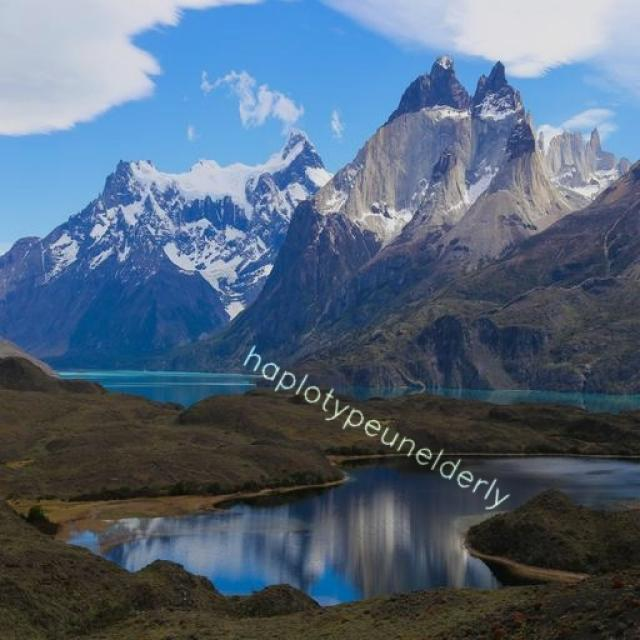watermark: (232, 338, 526, 514)
